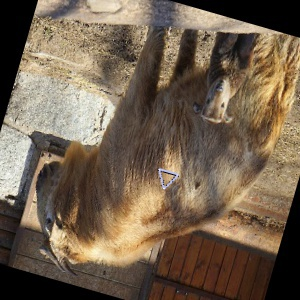triangle: (155, 167, 180, 191)
